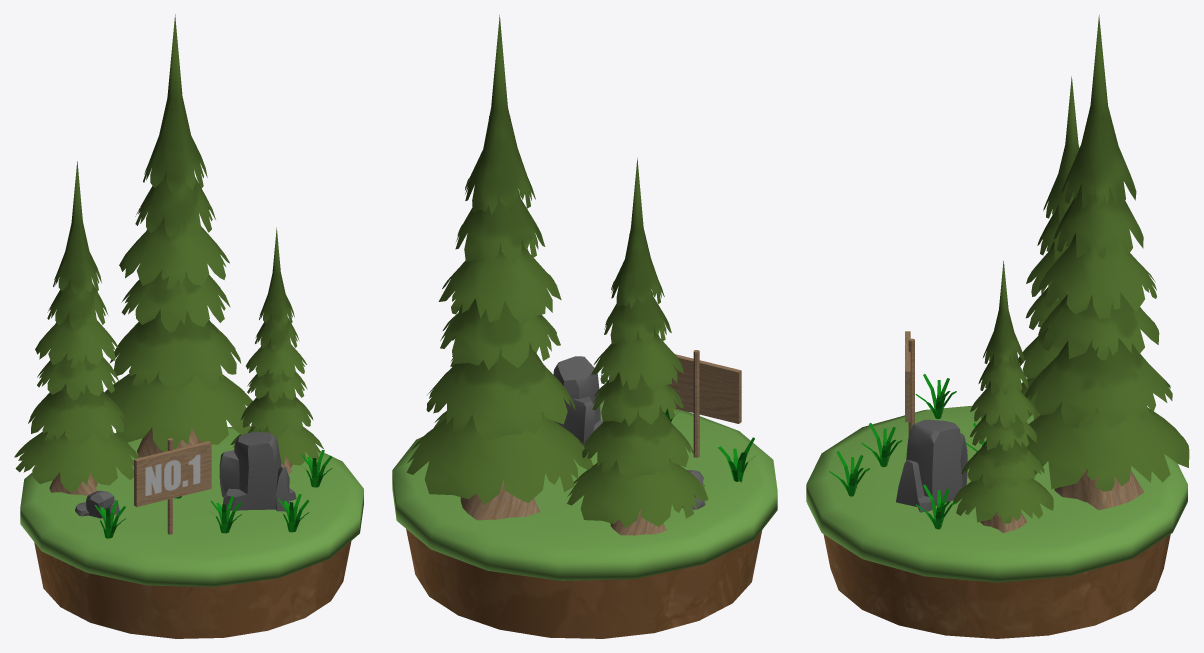
The model's file is StageModel1.fbx.
3 views of the same model, side by side, from view 1: azimuth 30°, elevation 25°; view 2: azimuth 150°, elevation 25°; view 3: azimuth 270°, elevation 25° (orthographic). The views are drawn at different scales.
Visible parts, largest first — view 1: map1; view 2: map1; view 3: map1.
Part boxes in pixels (x1=…): map1: x1=14, y1=14, x2=363, y2=638; map1: x1=392, y1=15, x2=777, y2=638; map1: x1=806, y1=15, x2=1189, y2=638.
Size of the model in its own units: 9.86 by 16.27 by 9.9.
